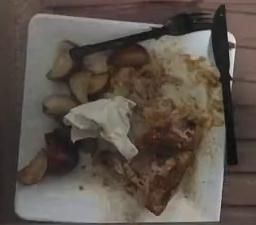potato: (19, 88, 82, 184), (62, 44, 150, 103), (46, 40, 78, 83)
